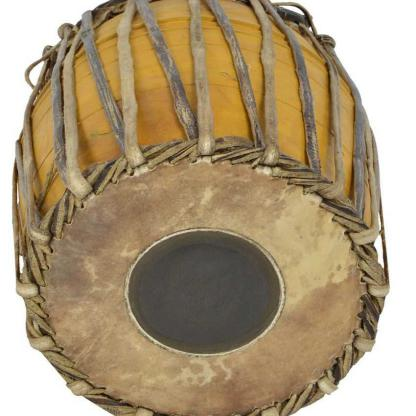Mridangam: (12, 115, 409, 416)
